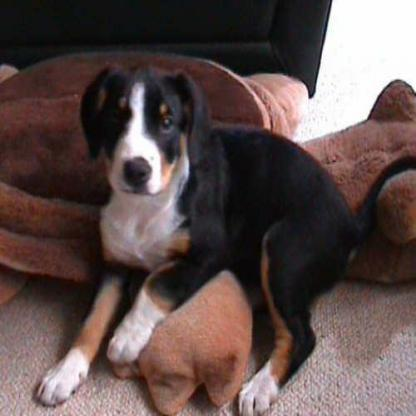EntleBucher: (31, 63, 411, 412)
